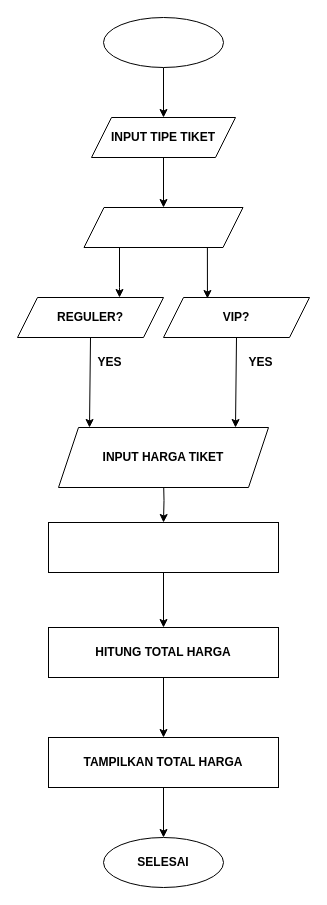
Image size: 327x905. Some labels were removed from this diagram. Each missing label, with the centre of its shape:
"HITUNG HARGA TIKET" goes at [163,547].
"MULAI" goes at [163,42].
"VALIDASI TIPE TIKET" goes at [163,227].
